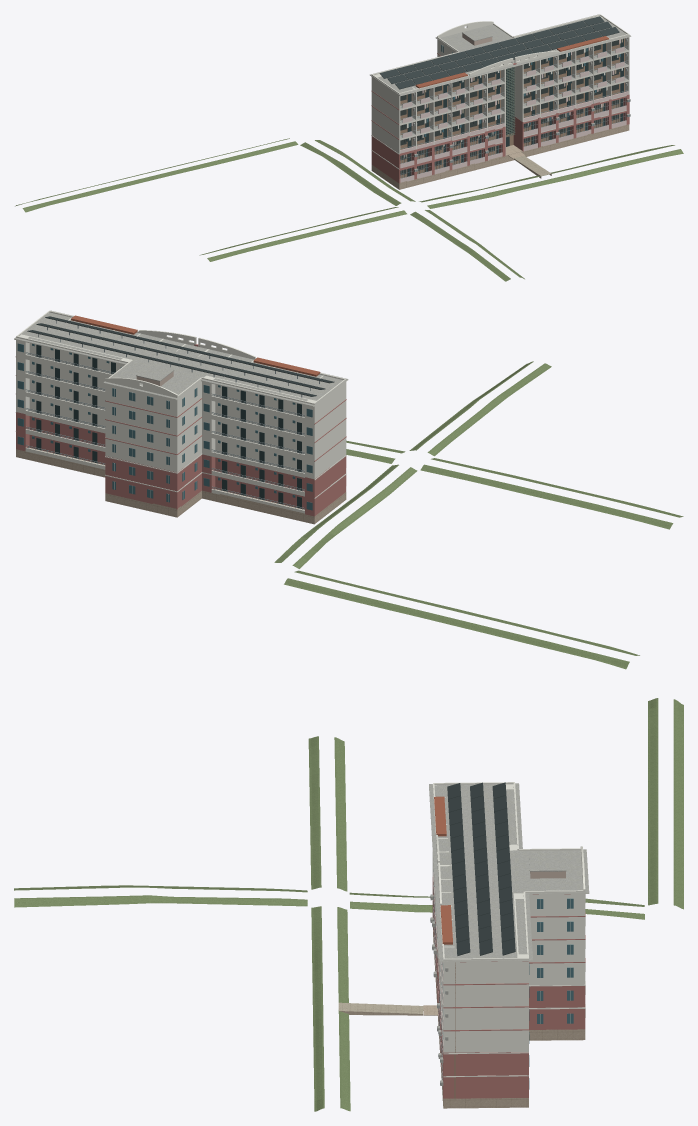
Rendered from chunk-dorm-way-759158607.glb.
The picture shows the model from 3 angles, top to bottom: view 1: azimuth 30°, elevation 25°; view 2: azimuth 150°, elevation 25°; view 3: azimuth 270°, elevation 25°; orthographic projection. The views are drawn at different scales.
Visible parts, largest first — view 1: chunk-dorm-way-759158607; view 2: chunk-dorm-way-759158607; view 3: chunk-dorm-way-759158607.
Boxes of the visible parts, x1=… form: chunk-dorm-way-759158607: x1=15, y1=14, x2=683, y2=281; chunk-dorm-way-759158607: x1=14, y1=310, x2=683, y2=669; chunk-dorm-way-759158607: x1=14, y1=698, x2=683, y2=1111.
Bounding box in the file's own units: 128 × 23.15 × 87.21.
Materials: 16 (4 with a texture image).
